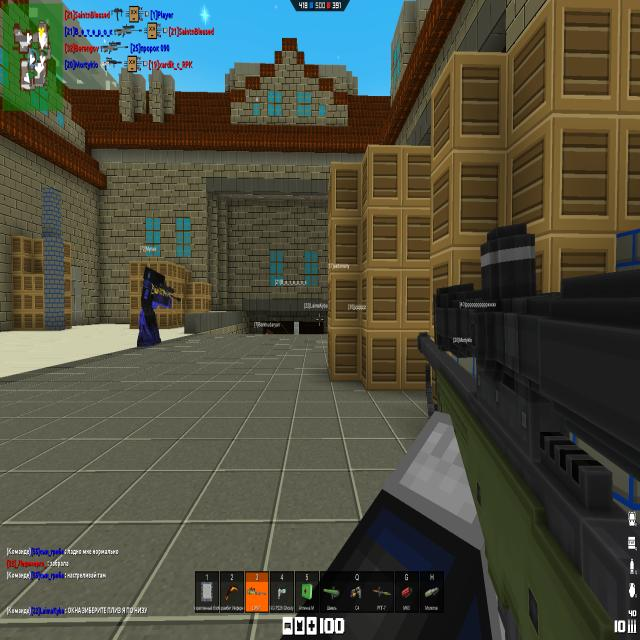player: (137, 264, 174, 348)
